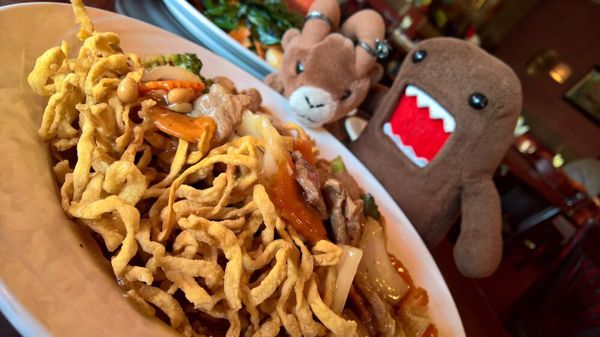curry: (349, 35, 524, 279), (266, 12, 376, 135)
